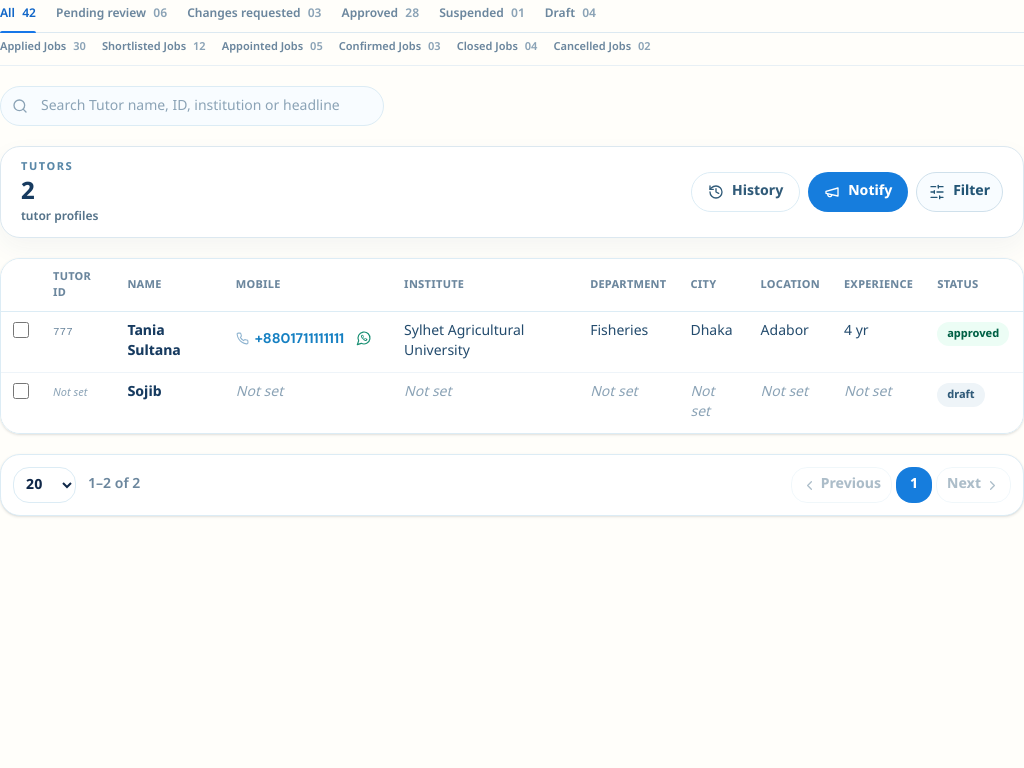
Scenario: Notify Tutors › Back returns to the editable form with what was typed still there
Step 1. Click the button "Notify" → (858, 192), box [808,172,908,212]
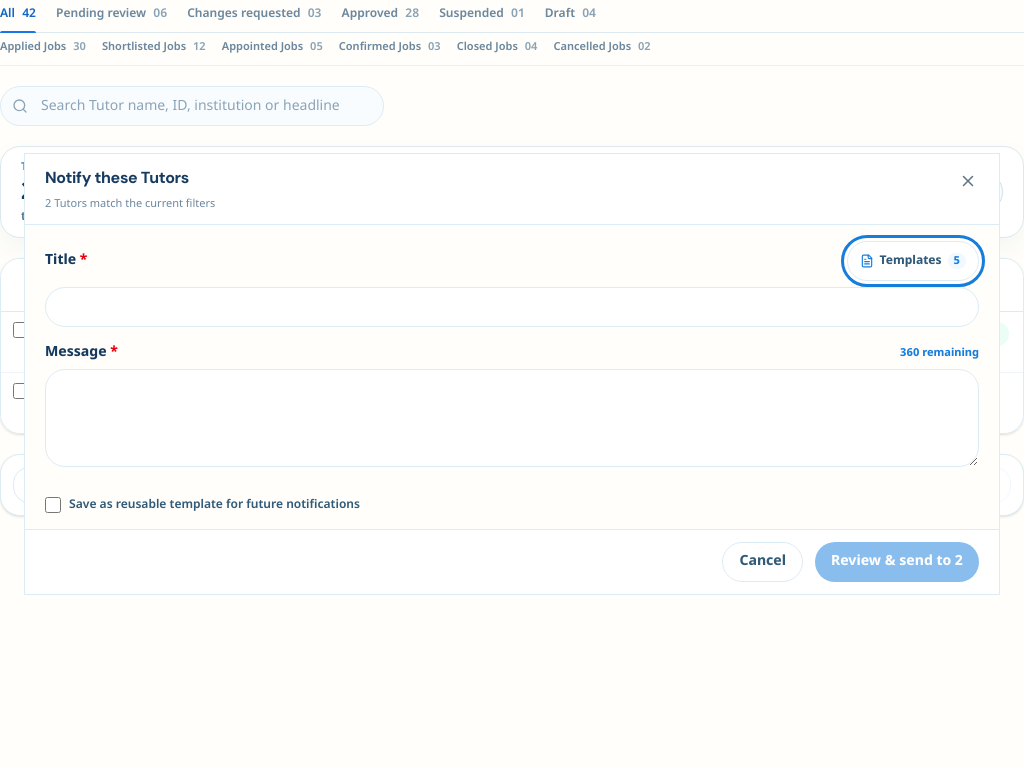
Step 2. Type "Platform maintenance" into the field labelled "Title *" → (512, 307), box [45,287,979,327]
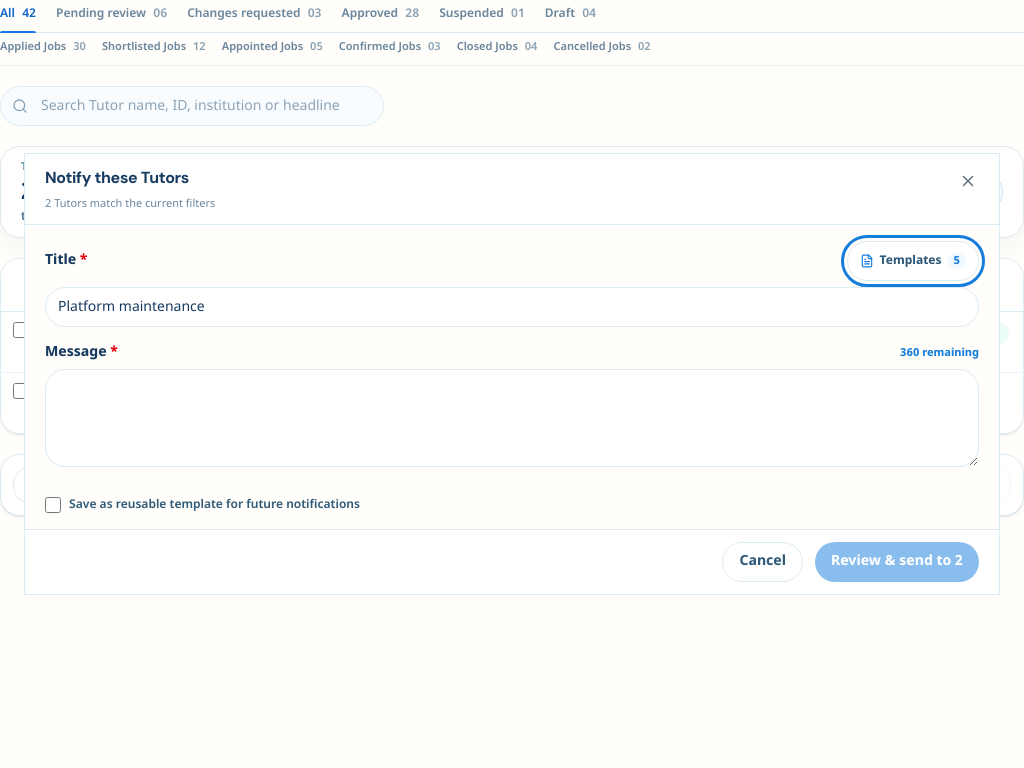
Step 3. Type "Paused tonight." into the text box labelled "Message *" → (512, 418), box [45,369,979,467]
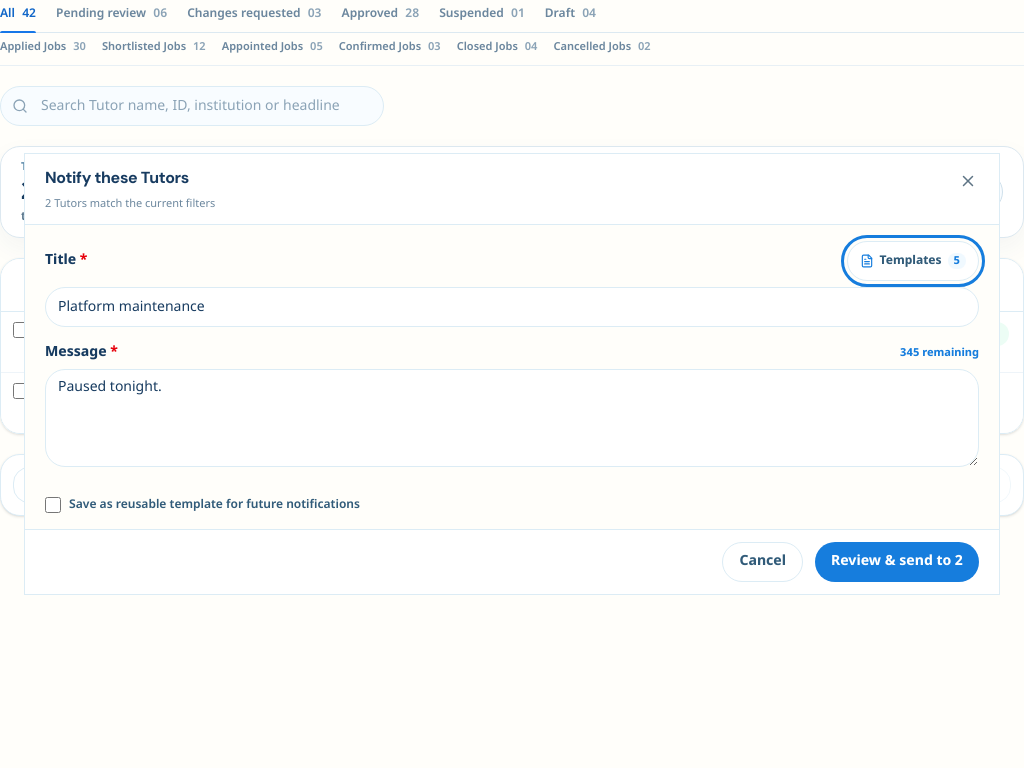
Step 4. Click the button "Review & send to 2" → (897, 562), box [815,542,979,582]
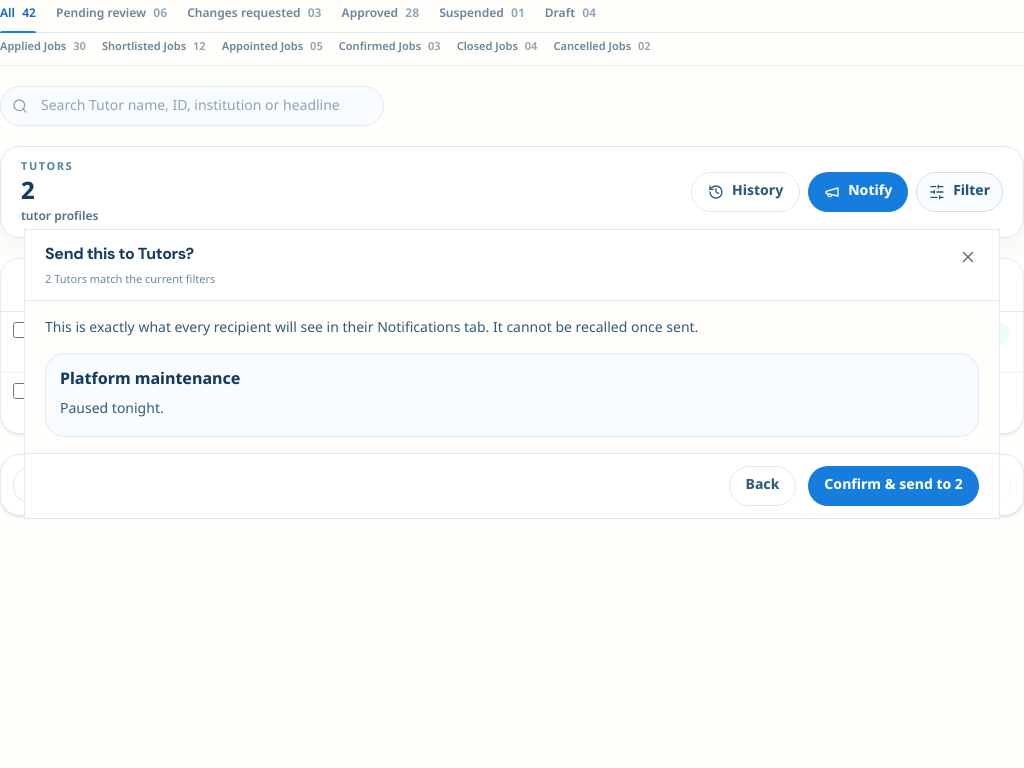
Step 5. Click the button "Back" → (762, 486), box [728,466,796,506]
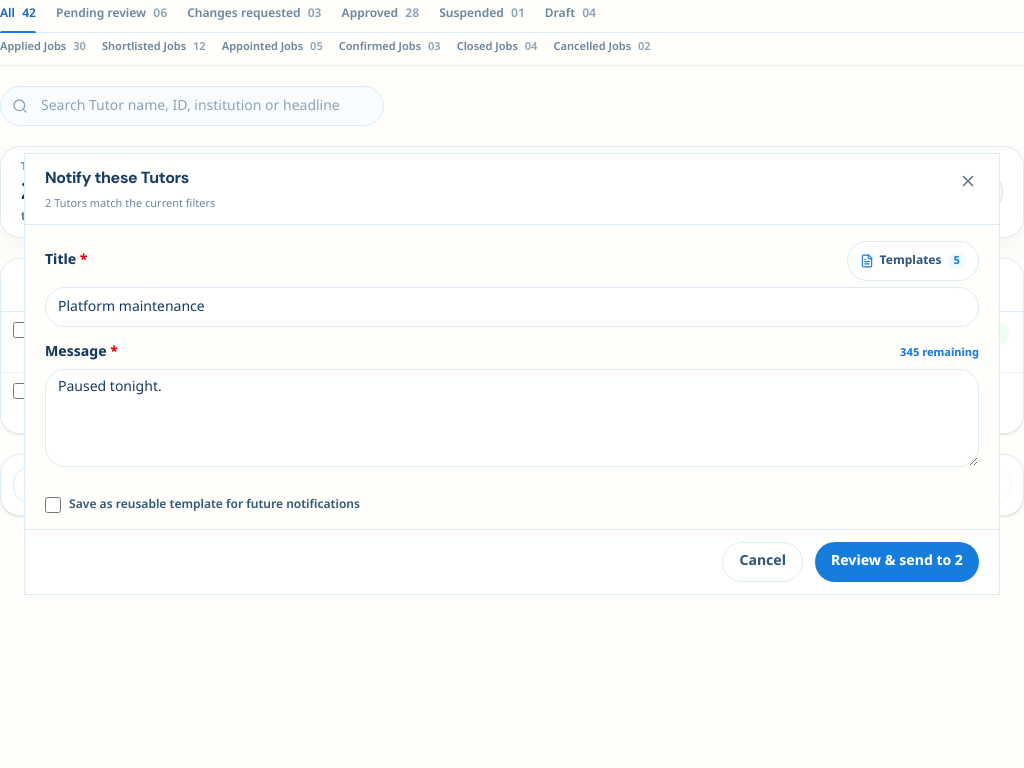
Now the field labelled "Title *" holds "Platform maintenance", box [45,287,979,327]
Now the text box labelled "Message *" holds "Paused tonight.", box [45,369,979,467]
